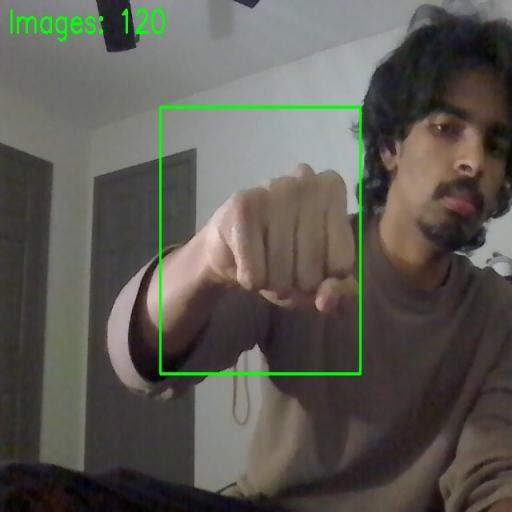Backspace: (160, 108, 360, 374)
